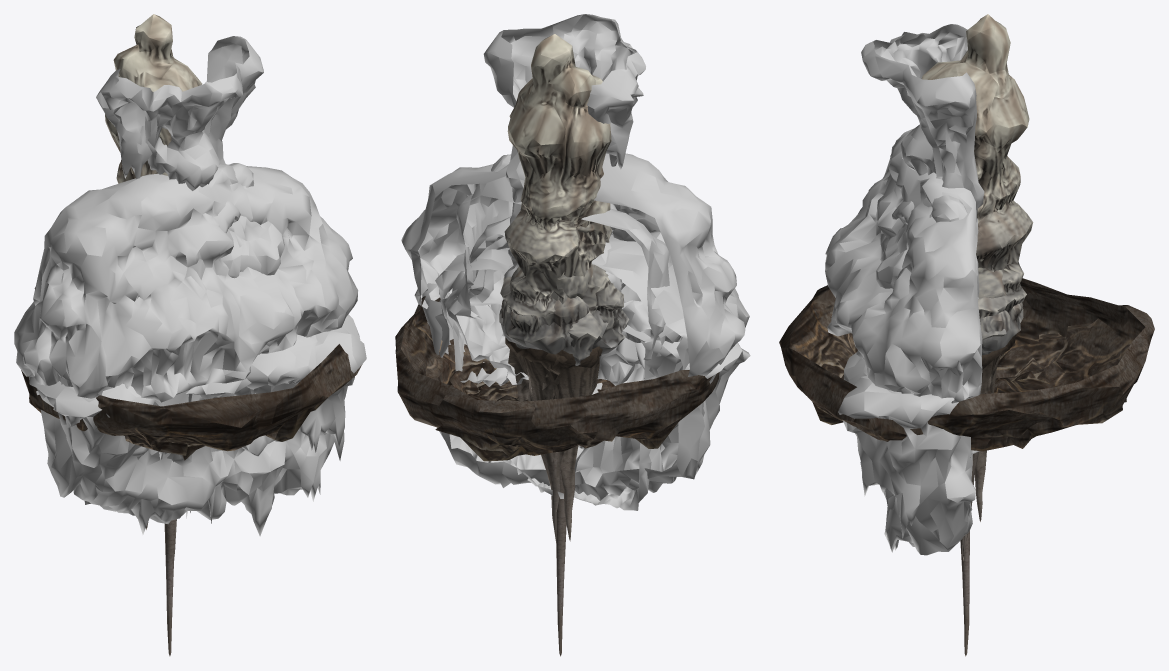
Rendered from Cave_optimised.FBX.
3 views of the same model, side by side, from view 1: azimuth 30°, elevation 25°; view 2: azimuth 150°, elevation 25°; view 3: azimuth 270°, elevation 25° (orthographic).
Parts seen in each view (by area): view 1: WallBottom2, WallTop2, WallColumn, CaveCeiling, StalagmiteBig, WallBottom, WallMid2, CaveStalactiteLong, WallTop; view 2: StalagmiteBig, CaveCeiling, WallBottom2, WallColumn, WallBottom, WallTop2, WallMid2, WallTop, WallMid1, CaveStalactiteTriple, StalagmiteSmall, CaveStalactiteLong (+4 smaller); view 3: CaveCeiling, WallBottom2, WallTop2, StalagmiteBig, WallColumn, WallBottom, StalagmiteSmall, CaveStalactiteTriple, CaveStalactiteLong, StalagmiteMid, WallMid2.
Boxes of the visible parts, x1,y1,x2,y2 form: WallBottom2: [14, 164, 358, 402]; WallTop2: [29, 314, 366, 536]; WallColumn: [96, 36, 263, 233]; CaveCeiling: [21, 287, 362, 460]; StalagmiteBig: [105, 14, 202, 183]; WallBottom: [221, 163, 284, 278]; WallMid2: [132, 334, 317, 456]; CaveStalactiteLong: [164, 519, 175, 656]; WallTop: [84, 386, 274, 523]; StalagmiteBig: [499, 34, 629, 365]; CaveCeiling: [395, 296, 719, 461]; WallBottom2: [401, 153, 749, 376]; WallColumn: [483, 14, 645, 291]; WallBottom: [448, 154, 680, 360]; WallTop2: [422, 283, 750, 500]; WallMid2: [427, 235, 689, 429]; WallTop: [439, 288, 682, 510]; WallMid1: [445, 216, 681, 394]; CaveStalactiteTriple: [505, 337, 599, 541]; StalagmiteSmall: [501, 296, 608, 354]; CaveStalactiteLong: [556, 456, 566, 656]; CaveCeiling: [779, 278, 1154, 451]; WallBottom2: [825, 128, 982, 403]; WallTop2: [838, 375, 975, 555]; StalagmiteBig: [921, 14, 1033, 355]; WallColumn: [861, 24, 984, 298]; WallBottom: [876, 195, 979, 298]; StalagmiteSmall: [980, 302, 1023, 351]; CaveStalactiteTriple: [974, 334, 1016, 521]; CaveStalactiteLong: [960, 530, 969, 656]; StalagmiteMid: [978, 259, 1005, 298]; WallMid2: [844, 352, 979, 457].
Bounding box in the file's own units: 620 × 1130 × 601.
